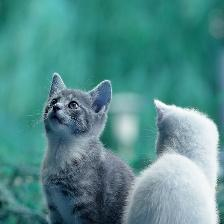kedo: (43, 73, 136, 224), (123, 93, 219, 224)
